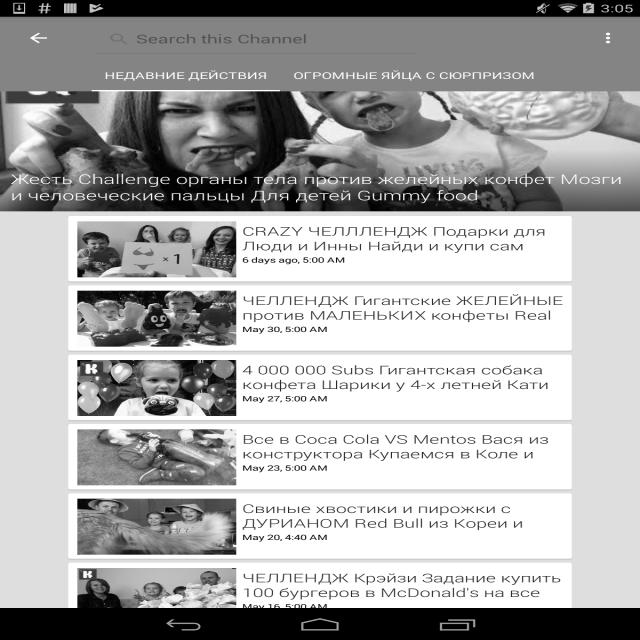EditText: (94, 26, 418, 50)
ImageButton: (9, 17, 68, 59)
ImageView: (0, 92, 640, 212), (77, 222, 237, 278), (77, 290, 237, 346), (77, 360, 237, 416), (77, 430, 237, 486), (77, 498, 237, 554), (77, 568, 237, 624), (589, 22, 631, 54)
TextView: (0, 150, 640, 211), (237, 221, 563, 254), (237, 360, 563, 393), (237, 429, 563, 462), (237, 568, 563, 601), (237, 291, 563, 323), (237, 499, 563, 531), (237, 254, 563, 265), (237, 323, 563, 334), (237, 462, 563, 473), (237, 531, 563, 542), (237, 393, 563, 403), (237, 601, 563, 611), (293, 69, 535, 82), (105, 69, 267, 82)
